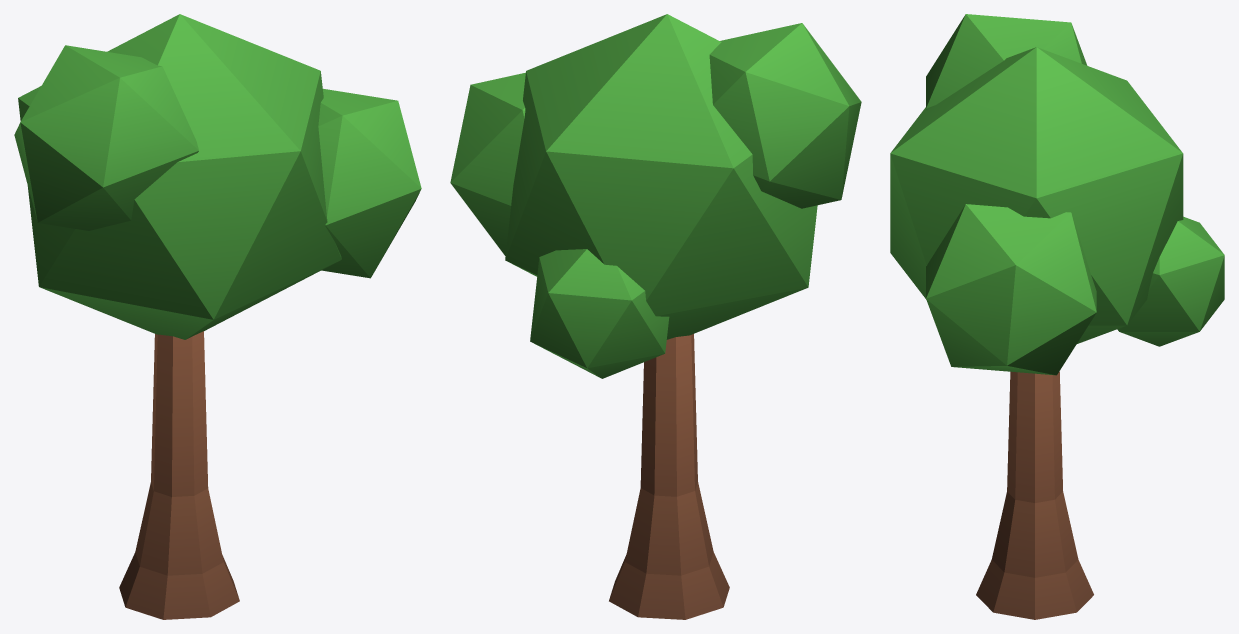
Rendered from arvore.fbx.
The picture shows the model from 3 angles, left to right: view 1: azimuth 30°, elevation 25°; view 2: azimuth 150°, elevation 25°; view 3: azimuth 270°, elevation 25°; orthographic projection. The views are drawn at different scales.
Parts seen in each view (by area): view 1: arvore; view 2: arvore; view 3: arvore.
Boxes of the visible parts, x1,y1,x2,y2 form: arvore: (14, 14, 421, 619); arvore: (450, 14, 861, 619); arvore: (890, 14, 1224, 619).
Size of the model in its own units: 473 by 671 by 371.
